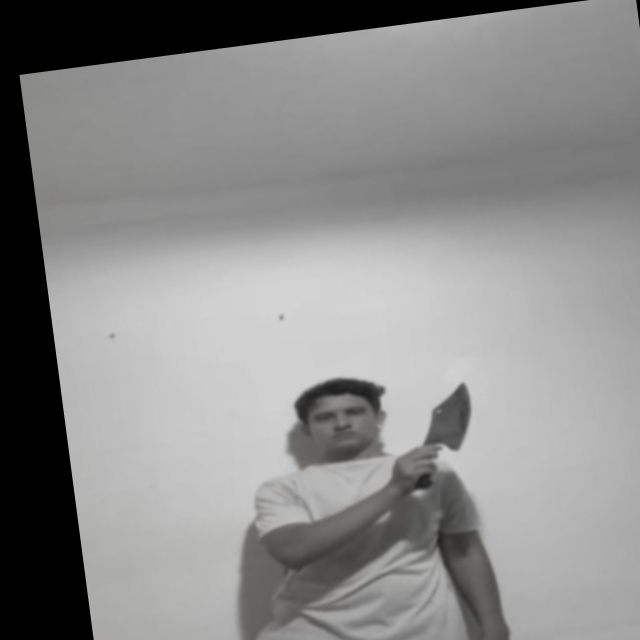Sharp-Object: (417, 377, 478, 449)
